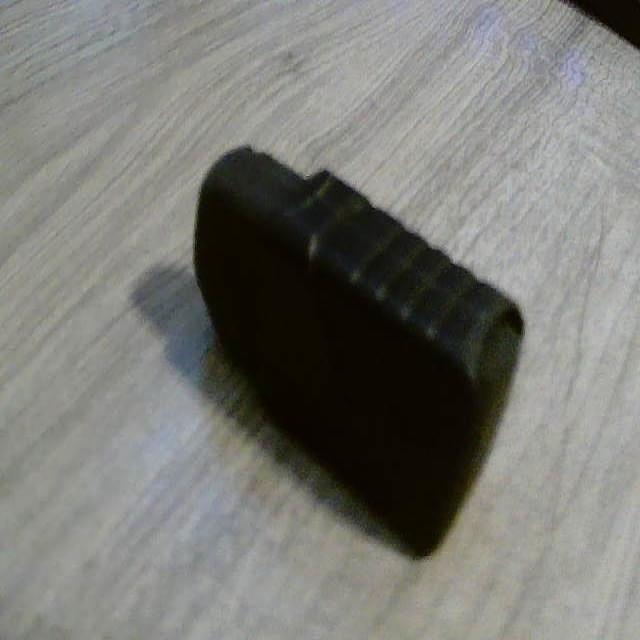borracha: (182, 127, 542, 597)
